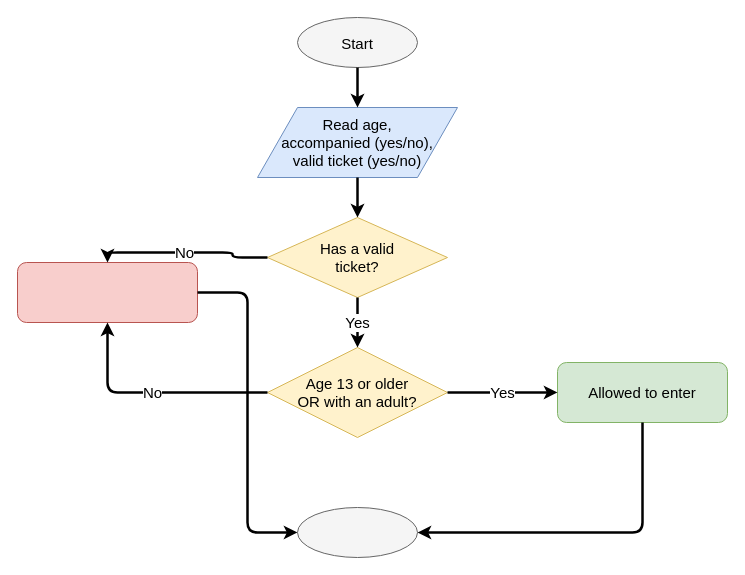
The diagram is 745 pixels wide and 575 high, and some of its shapes have lost their labels. Here are the shapes that lost their labels. From the top down, the centre of each, then its label:
At (x=107, y=292): "Not allowed to enter".
At (x=357, y=532): "End".
